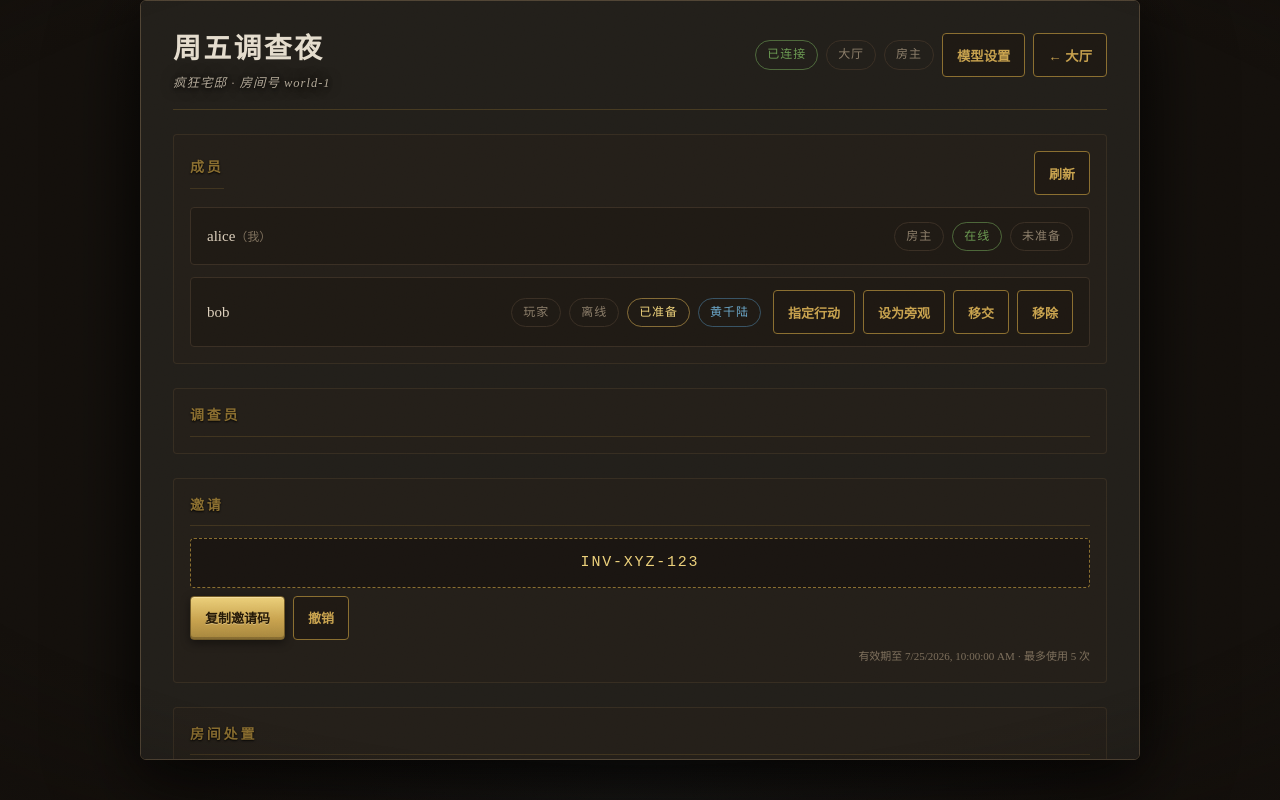
RoomScreen 邀请、退出与标题 › 展示邀请码并可复制
Expected: the text "INV-XYZ-123" is shown, x1=190 y1=538 x2=1090 y2=588
Expected: the text "有效期至 7/25/2026, 10:00:00 AM · 最多使用 5 次" is shown, x1=858 y1=648 x2=1090 y2=666
Click the button "复制邀请码" at {"x": 238, "y": 618}, box x1=190 y1=596 x2=285 y2=640
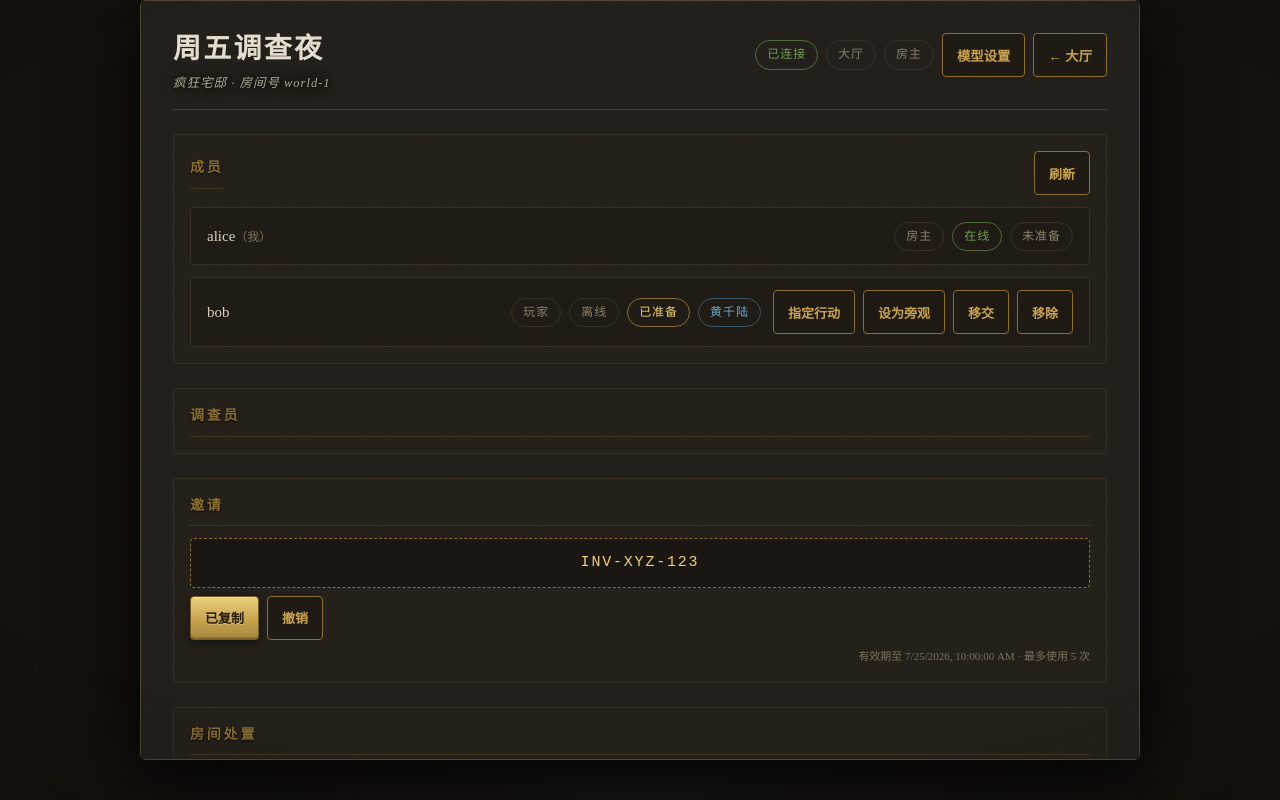
Expected: the button "已复制" is shown, x1=190 y1=596 x2=259 y2=640
